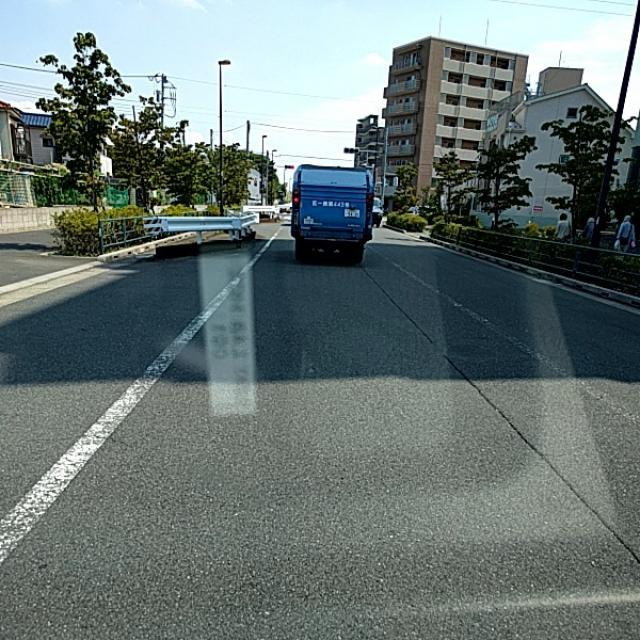pothole: (389, 349, 492, 424)
